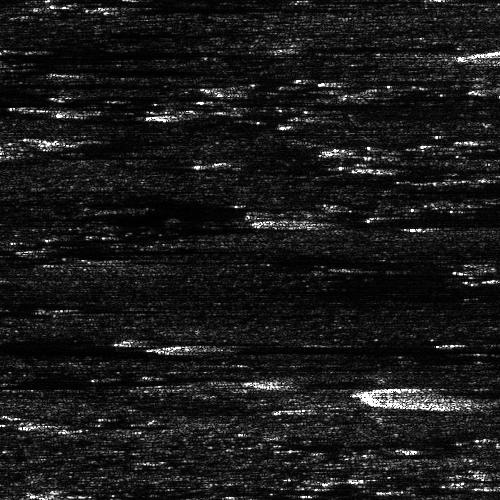rock: (209, 213, 396, 232), (0, 241, 67, 260), (39, 4, 154, 15), (125, 341, 230, 352), (342, 162, 415, 173), (0, 418, 83, 427), (223, 496, 316, 500), (0, 63, 35, 72), (254, 47, 307, 52)
shadow: (303, 213, 500, 232), (178, 341, 500, 352), (0, 45, 178, 64), (26, 241, 158, 260), (97, 4, 312, 15), (0, 76, 177, 89), (0, 63, 205, 72), (0, 82, 54, 111), (379, 162, 500, 173), (270, 496, 488, 500), (37, 418, 103, 427), (281, 47, 352, 52)
